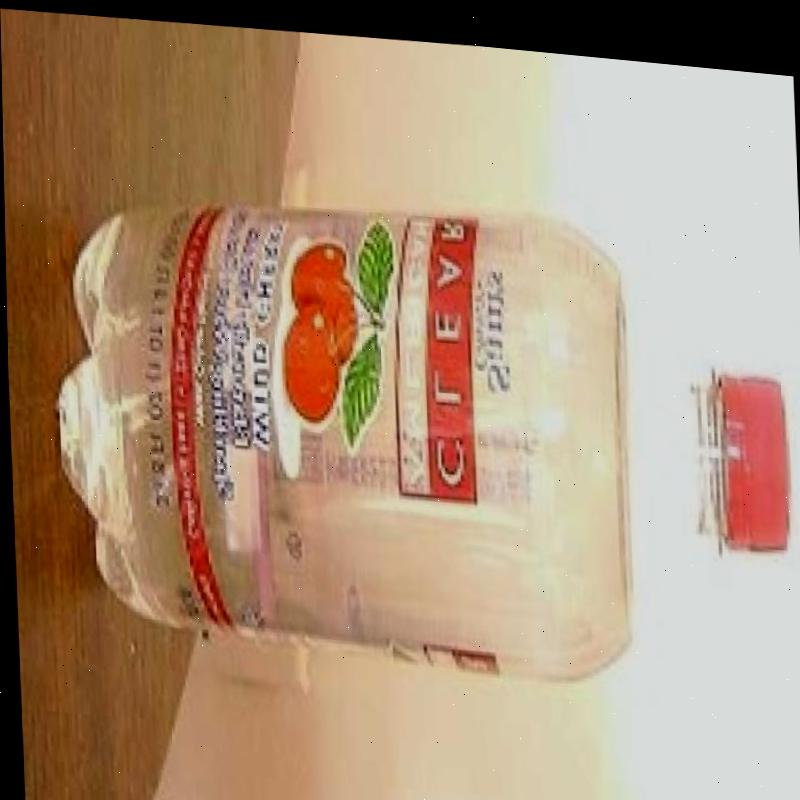botella: (44, 162, 792, 691)
